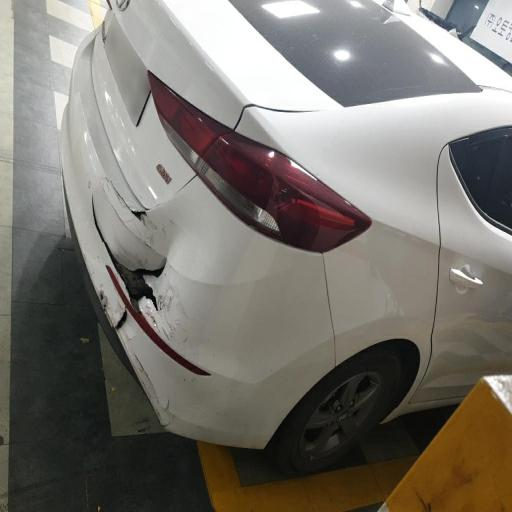broken: (71, 144, 200, 356), (173, 24, 324, 167)
